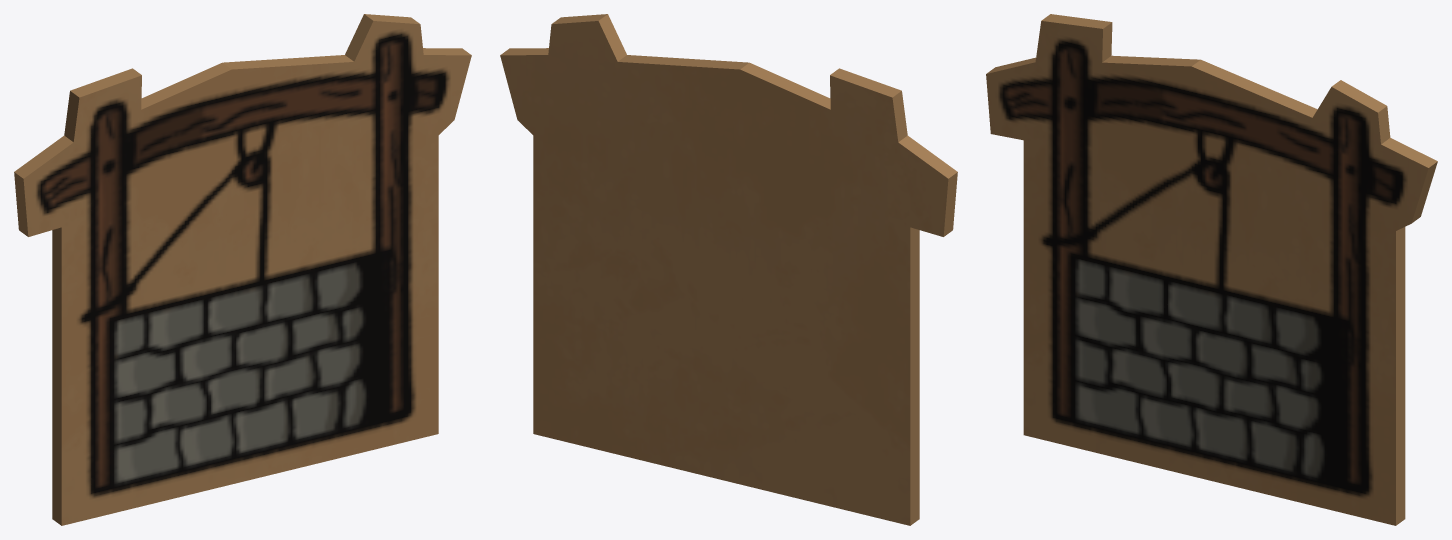
File: SM_Puit_VF.fbx
The picture shows the model from 3 angles, left to right: view 1: azimuth 30°, elevation 25°; view 2: azimuth 150°, elevation 25°; view 3: azimuth 330°, elevation 25°; orthographic projection.
Visible parts, largest first — view 1: Puit; view 2: Puit; view 3: Puit.
Boxes of the visible parts, bbox=[...] form: Puit: bbox=[14, 14, 471, 525]; Puit: bbox=[500, 14, 957, 525]; Puit: bbox=[986, 14, 1437, 525].
Bounding box in the file's own units: 153 × 141 × 5.59.
